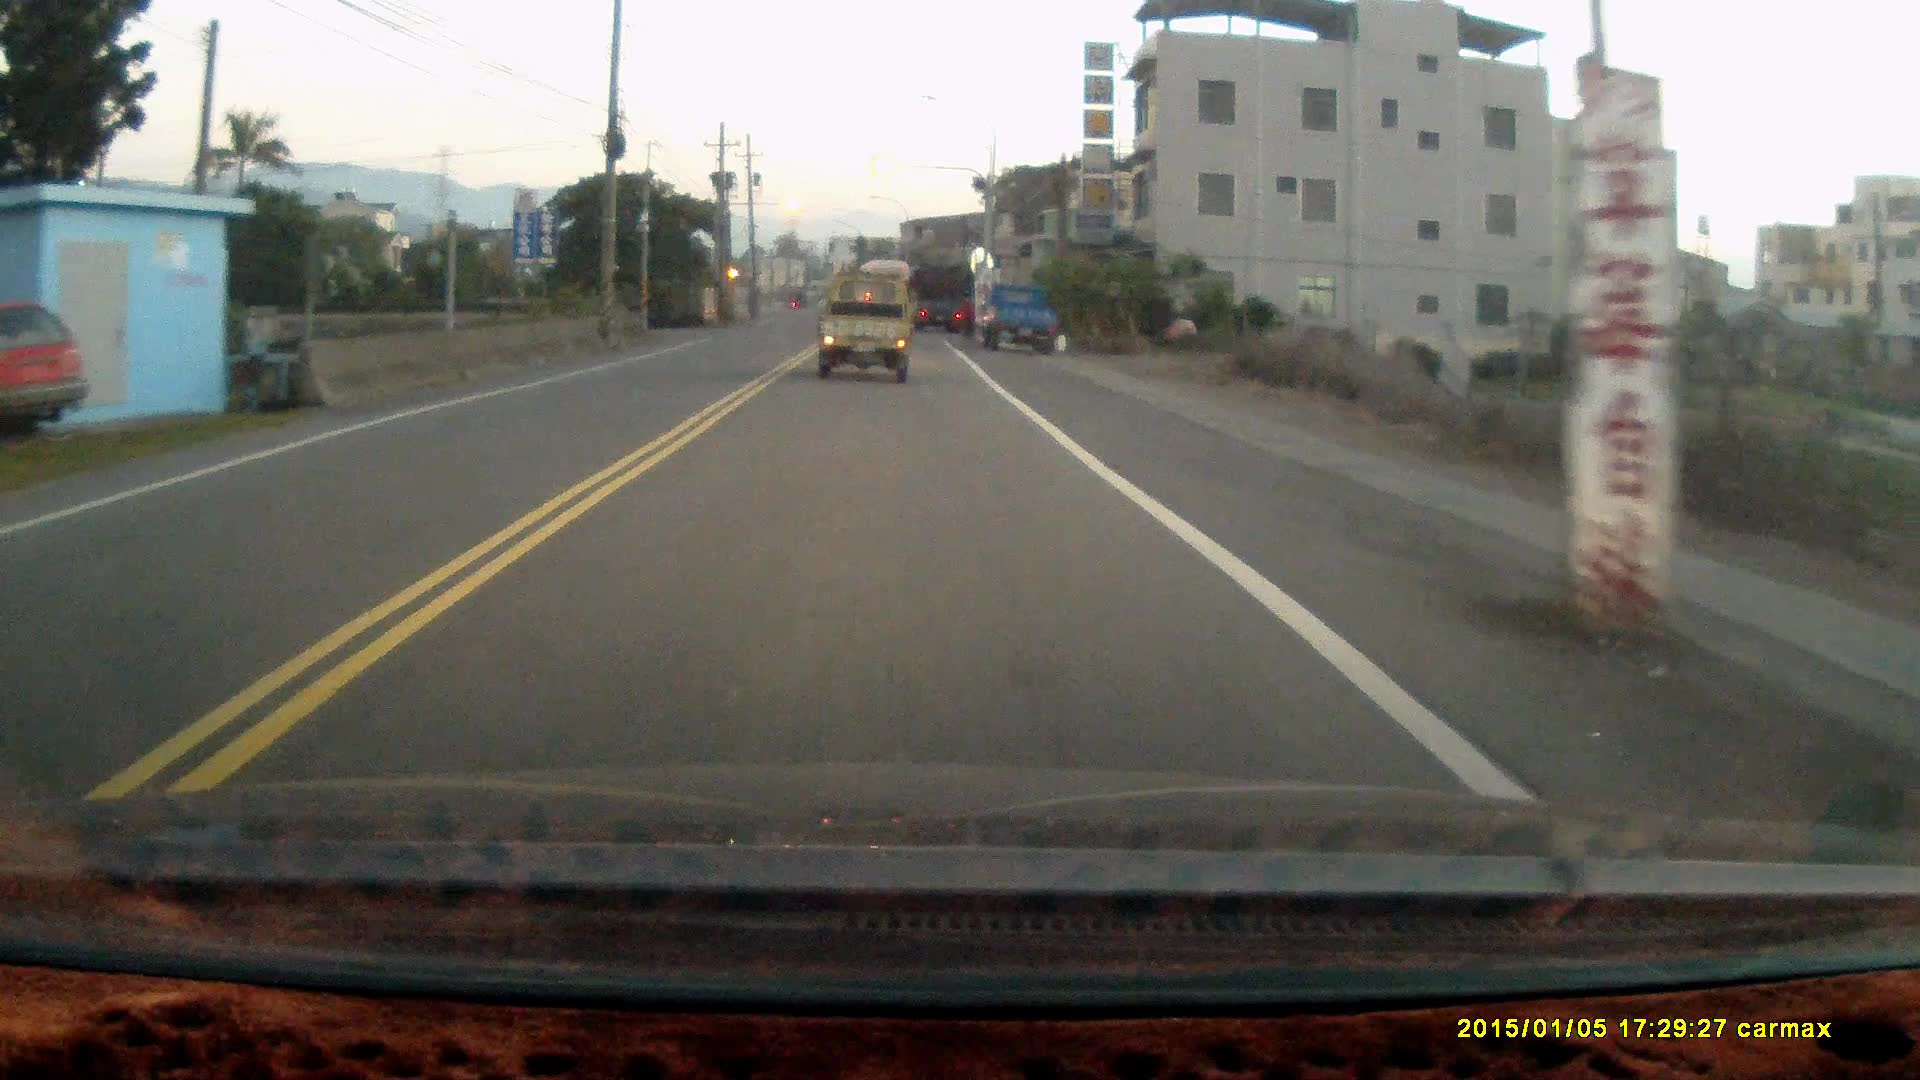vehicle: (1, 301, 88, 435), (814, 276, 916, 382), (975, 281, 1067, 360), (910, 265, 978, 336)
